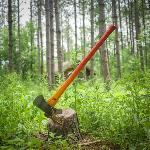Kapak: (25, 20, 117, 122)
